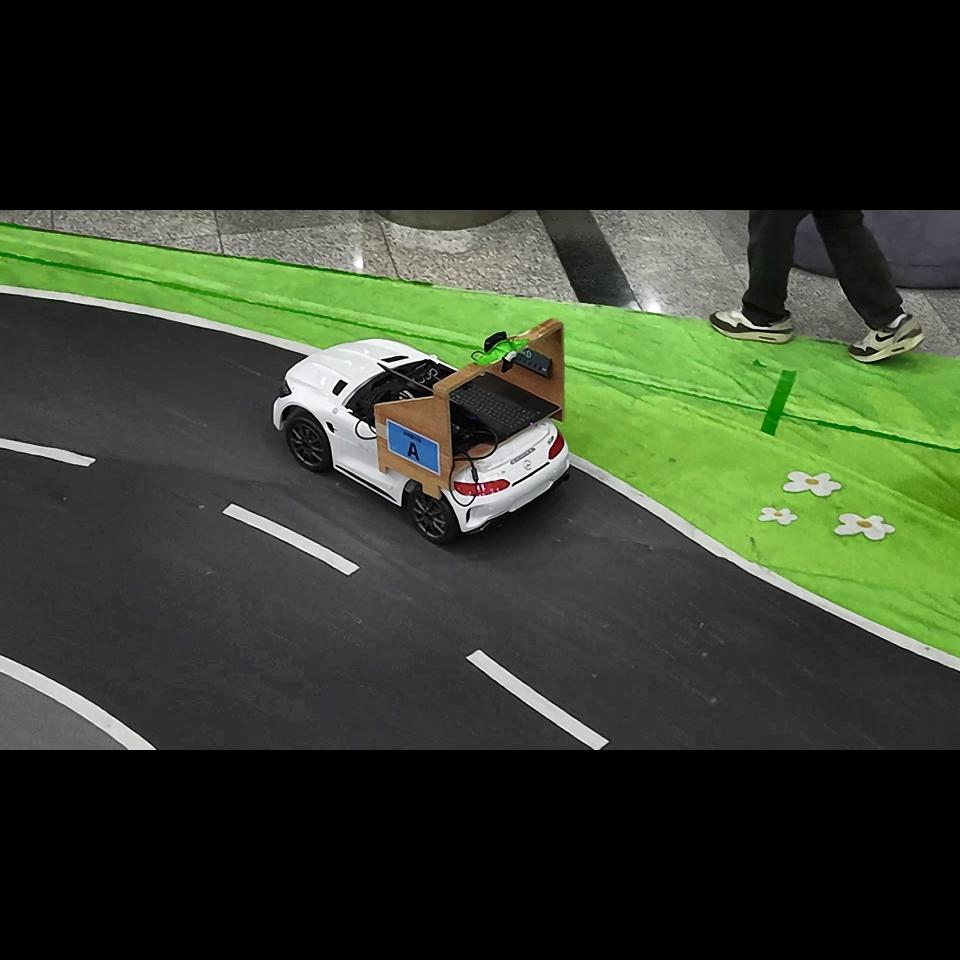broken_line: (466, 649, 609, 750), (222, 504, 360, 576), (1, 438, 96, 467)
